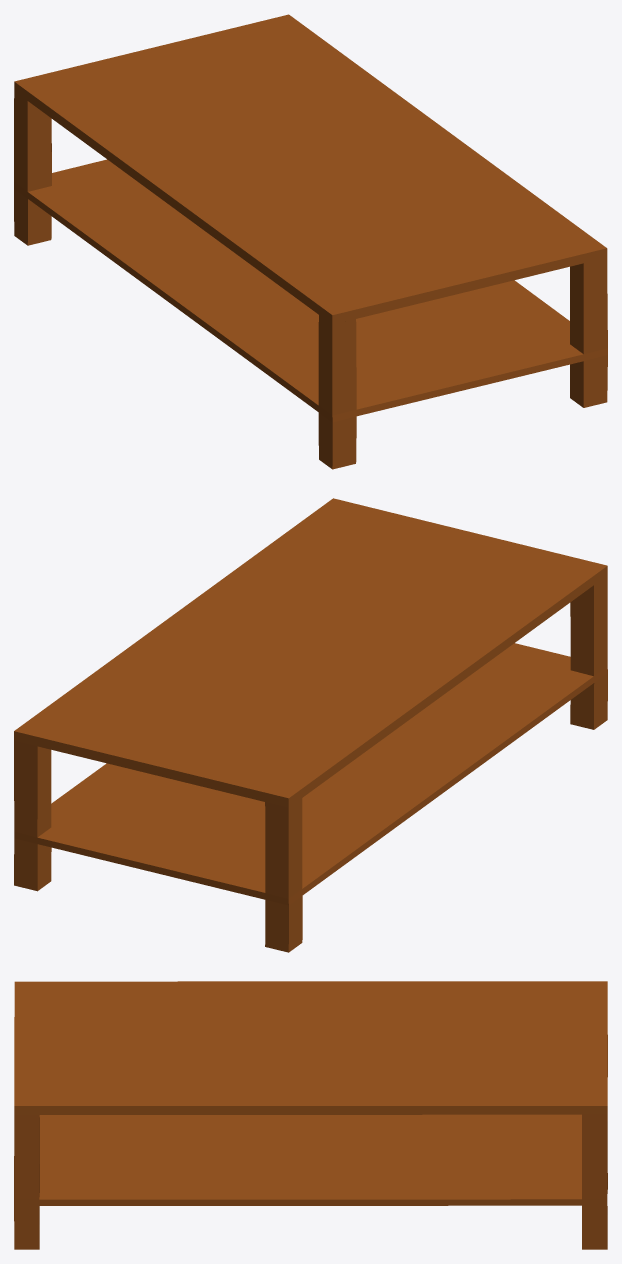
The model's file is MesaCentro.fbx.
3 renders of one model, top to bottom at view 1: azimuth 30°, elevation 25°; view 2: azimuth 150°, elevation 25°; view 3: azimuth 270°, elevation 25°, orthographic. The views are drawn at different scales.
Visible parts, largest first — view 1: Cube.004; view 2: Cube.004; view 3: Cube.004.
Boxes of the visible parts, x1=… form: Cube.004: x1=14, y1=14, x2=607, y2=469; Cube.004: x1=14, y1=498, x2=607, y2=952; Cube.004: x1=14, y1=981, x2=607, y2=1249.
Bounding box in the file's own units: 0.5042 × 0.2708 × 1.01.
